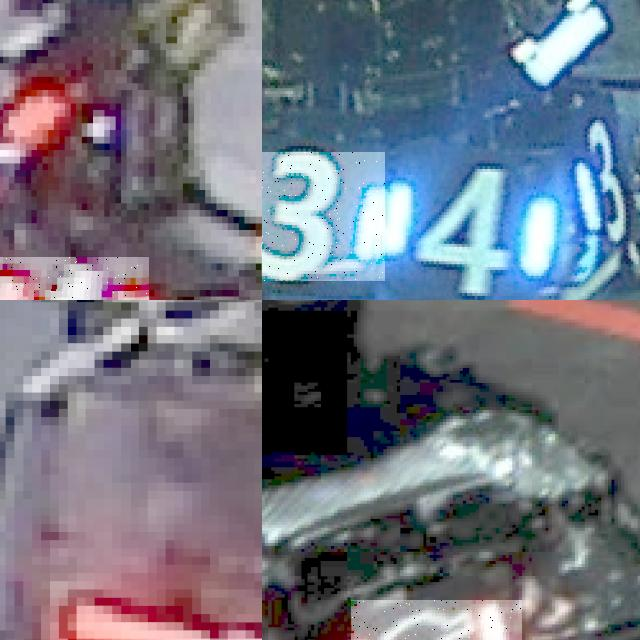B3: (262, 151, 385, 281)
B4: (380, 163, 557, 293)
R4: (0, 256, 149, 300)
Rs: (350, 600, 522, 640)
